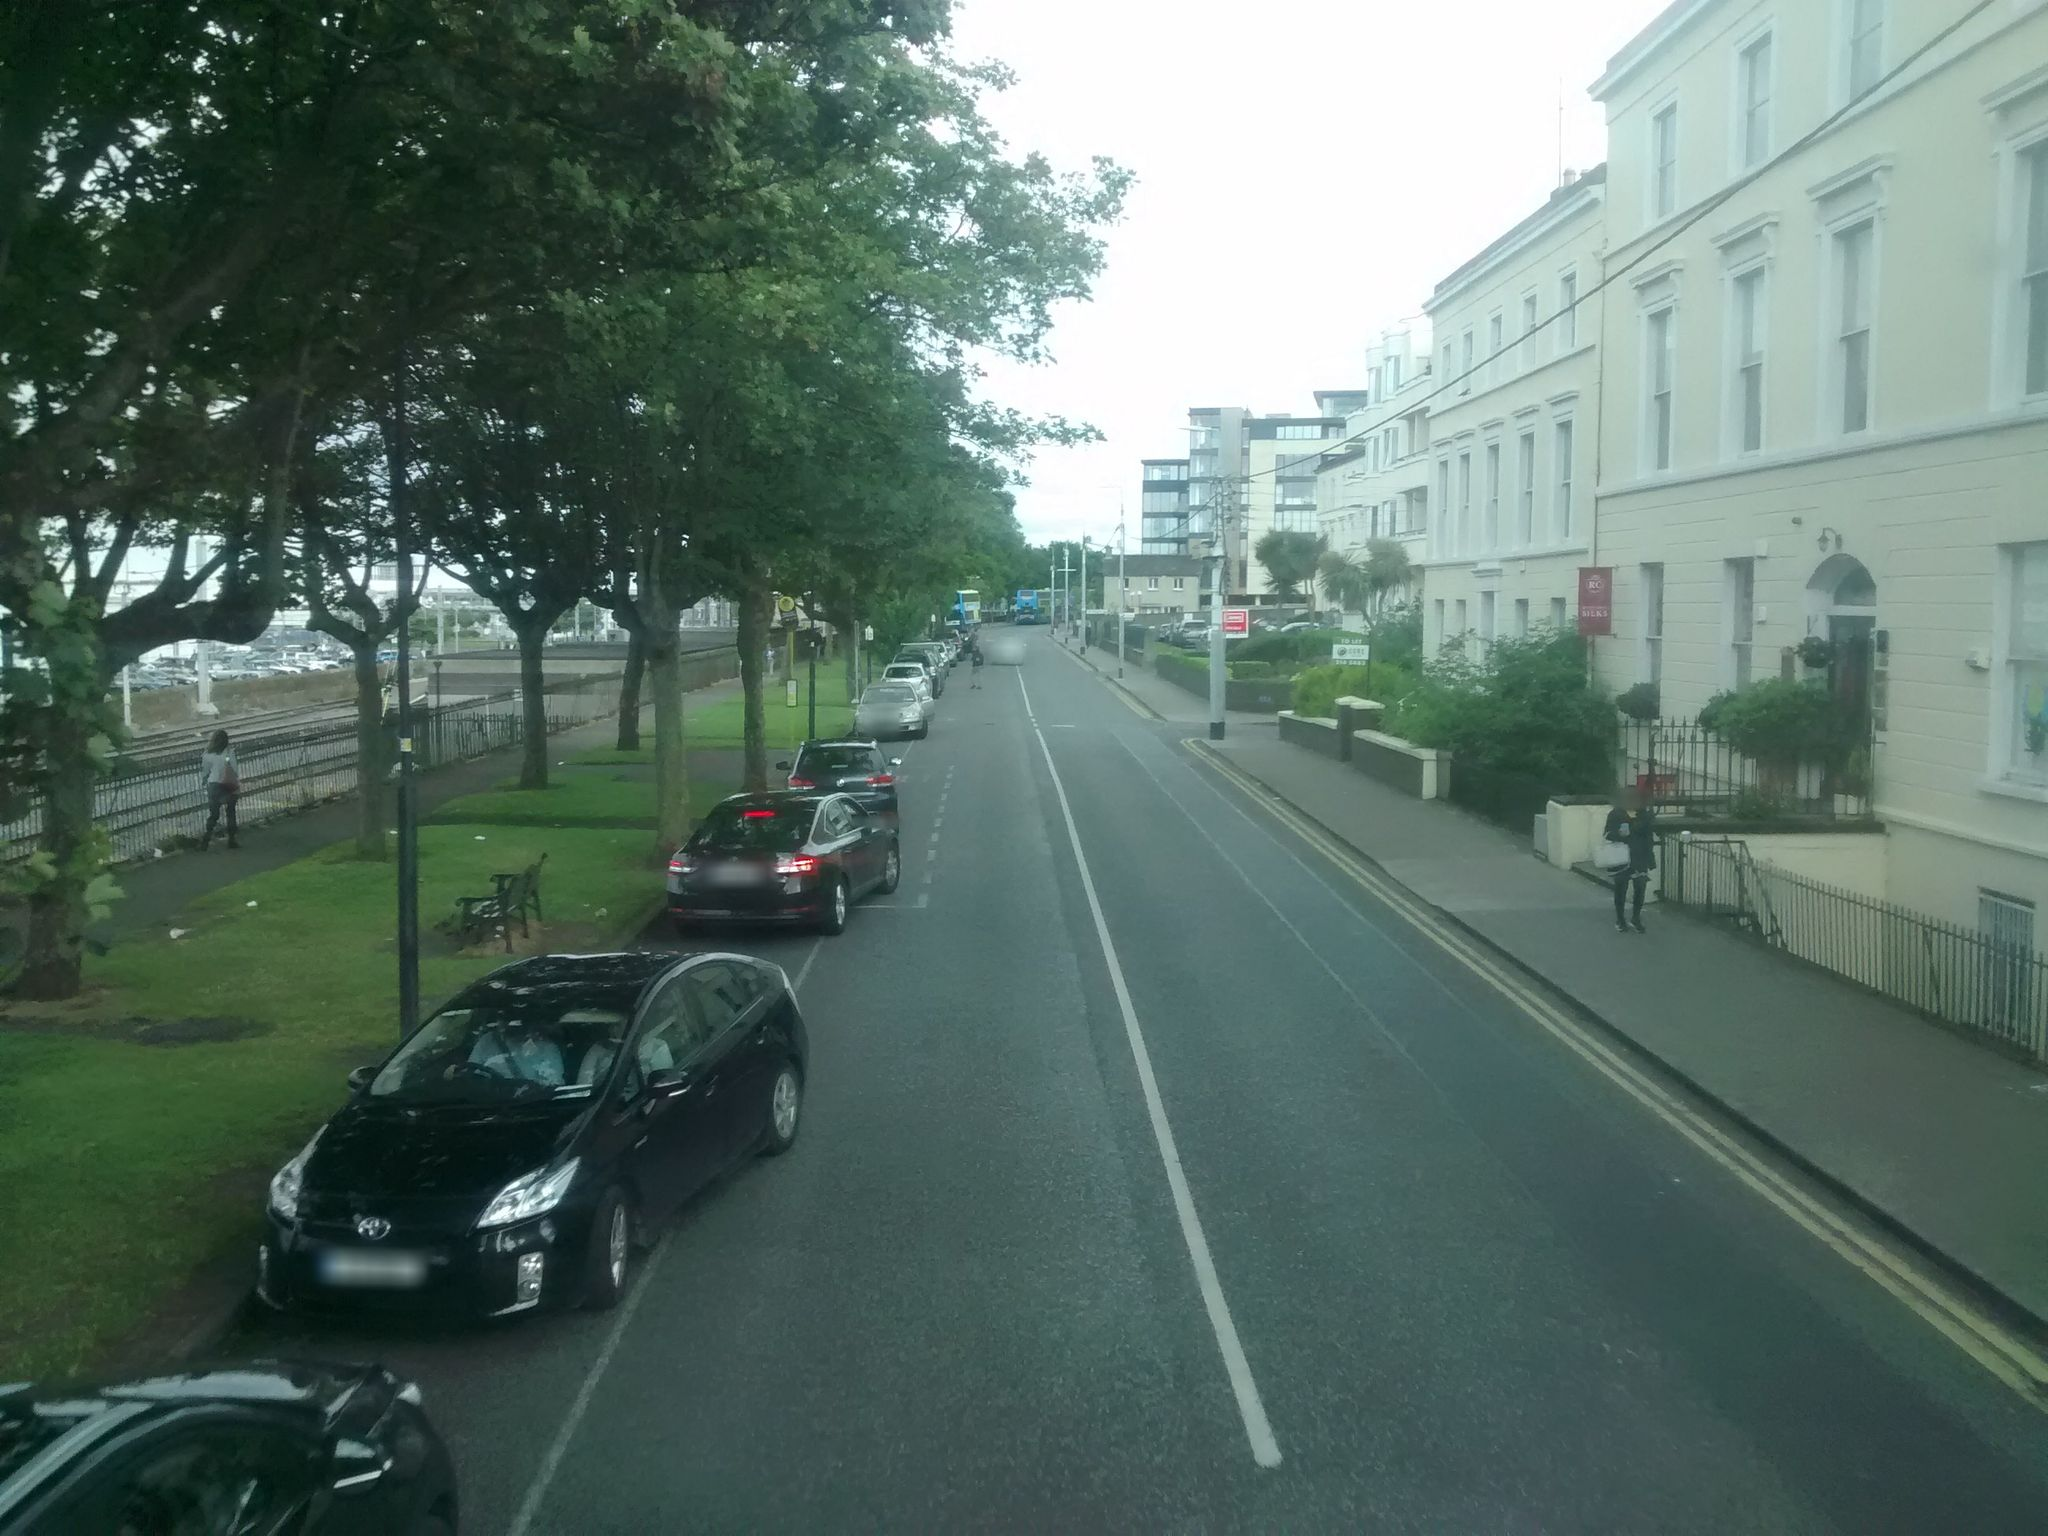property sign: (1213, 608, 1258, 650)
